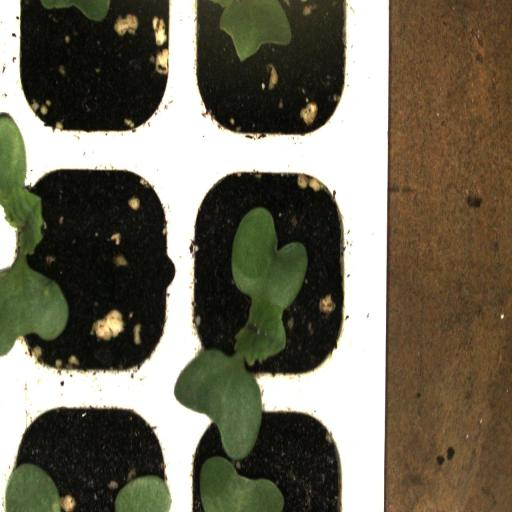Folha: (211, 0, 317, 62), (5, 463, 62, 512), (115, 475, 171, 512)
Germinacao: (4, 144, 184, 386), (186, 151, 357, 387)
